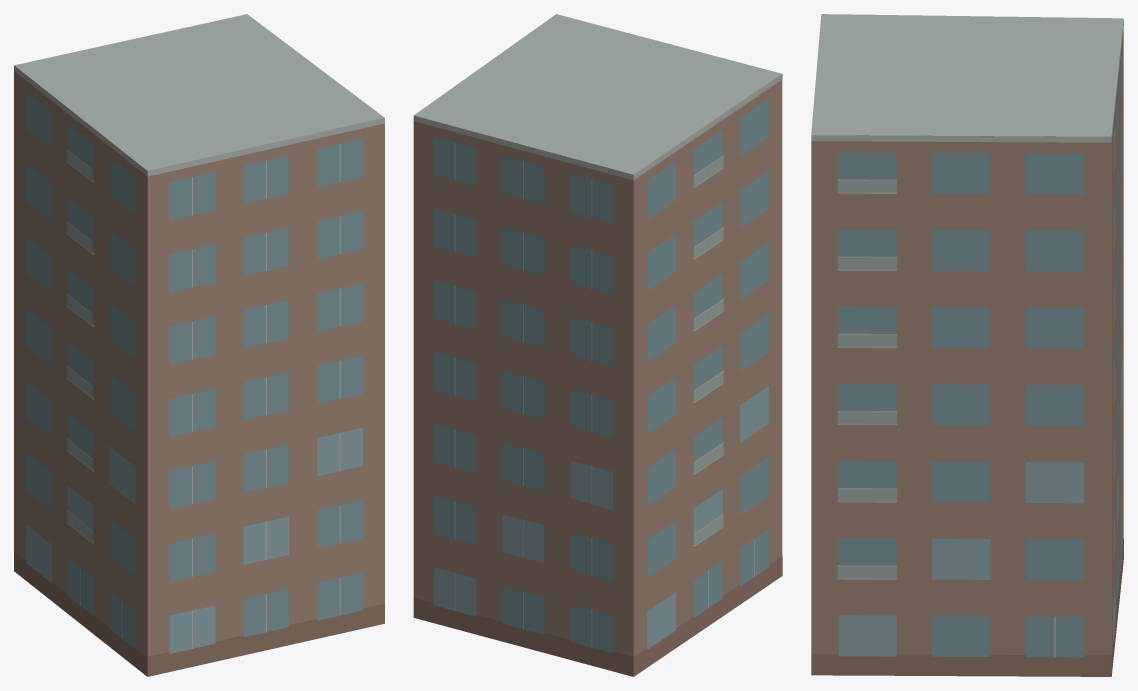
Rendered from survey-upis-33010594.glb.
The picture shows the model from 3 angles, left to right: view 1: azimuth 30°, elevation 25°; view 2: azimuth 150°, elevation 25°; view 3: azimuth 270°, elevation 25°; orthographic projection. The views are drawn at different scales.
Visible parts, largest first — view 1: survey-upis-33010594.tmp; view 2: survey-upis-33010594.tmp; view 3: survey-upis-33010594.tmp.
Part boxes in pixels (x1,y1,x2,y2): survey-upis-33010594.tmp: [14, 14, 384, 676]; survey-upis-33010594.tmp: [413, 14, 782, 676]; survey-upis-33010594.tmp: [811, 14, 1123, 676].
Bounding box in the file's own units: 10.68 × 21.9 × 11.5.
